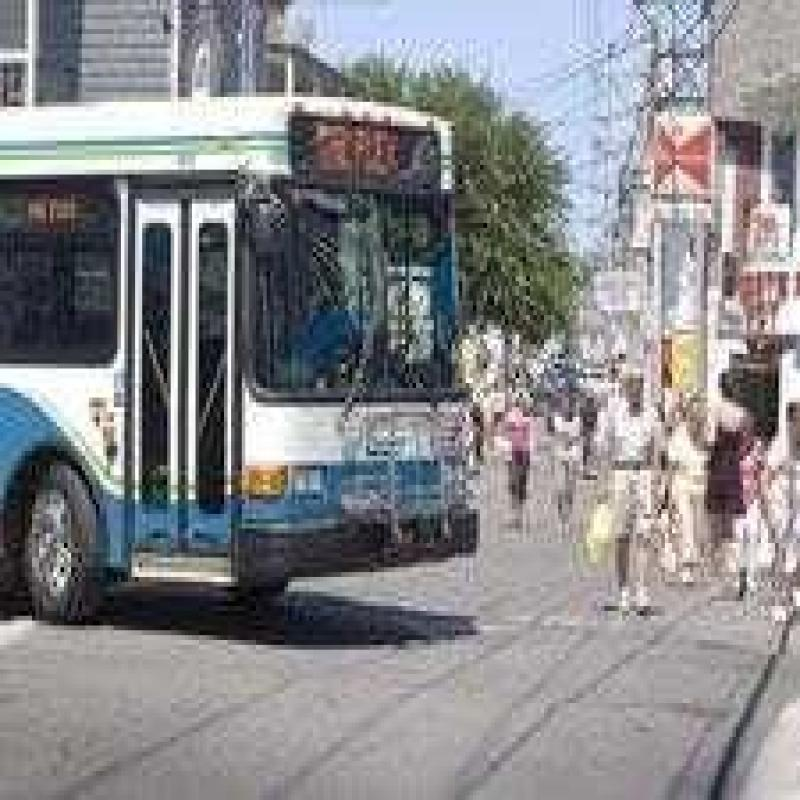bus: (2, 73, 488, 646)
